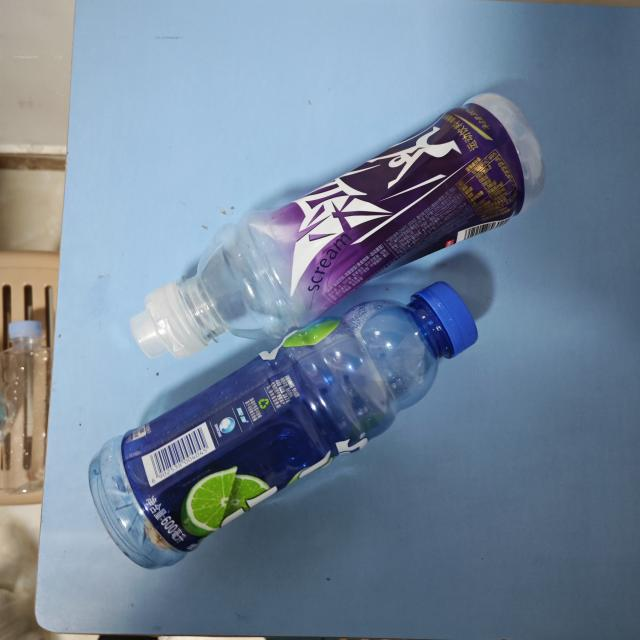-Recyclables - plastic bottle-: (88, 282, 477, 572), (132, 93, 552, 356)
